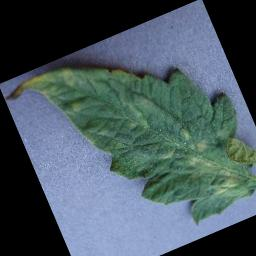Leaf_Mold: (181, 132, 242, 202), (1, 73, 48, 105)
